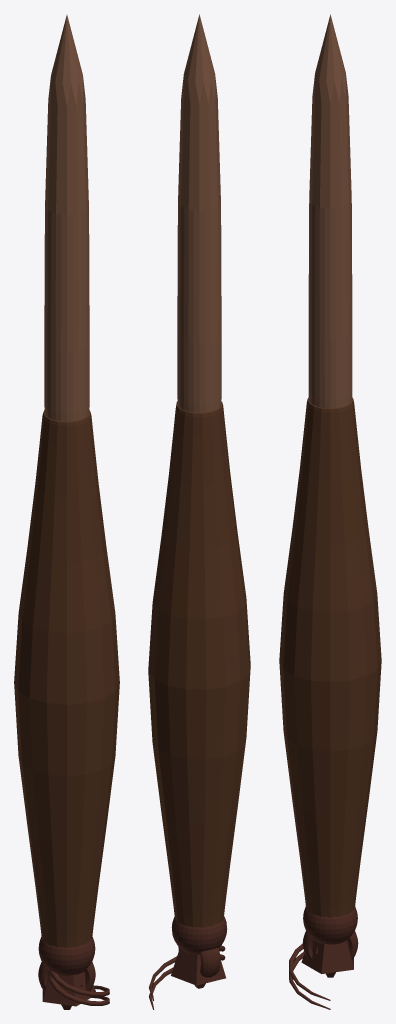
The model's file is Wand 109.glb.
3 renders of one model, left to right at view 1: azimuth 90°, elevation 25°; view 2: azimuth 210°, elevation 25°; view 3: azimuth 270°, elevation 25°, orthographic. The views are drawn at different scales.
Parts seen in each view (by area): view 1: GeneratedWand, Pommel_4, Pommel_9, Pommel_2, Pommel_10; view 2: GeneratedWand, Pommel_4, Pommel_9, Pommel_2; view 3: GeneratedWand, Pommel_4, Pommel_9, Pommel_2, Pommel_10.
Boxes of the visible parts, x1=… form: GeneratedWand: x1=14, y1=15, x2=119, y2=996; Pommel_4: x1=38, y1=936, x2=95, y2=975; Pommel_9: x1=42, y1=971, x2=95, y2=1006; Pommel_2: x1=38, y1=962, x2=95, y2=991; Pommel_10: x1=48, y1=972, x2=109, y2=1005; GeneratedWand: x1=148, y1=14, x2=250, y2=1000; Pommel_4: x1=171, y1=916, x2=227, y2=954; Pommel_9: x1=171, y1=948, x2=225, y2=985; Pommel_2: x1=178, y1=946, x2=220, y2=977; GeneratedWand: x1=279, y1=14, x2=381, y2=1000; Pommel_4: x1=303, y1=906, x2=357, y2=944; Pommel_9: x1=301, y1=940, x2=353, y2=973; Pommel_2: x1=302, y1=931, x2=358, y2=960; Pommel_10: x1=289, y1=951, x2=330, y2=1009.
Bounding box in the file's own units: 0.0507 × 0.5231 × 0.0499.
